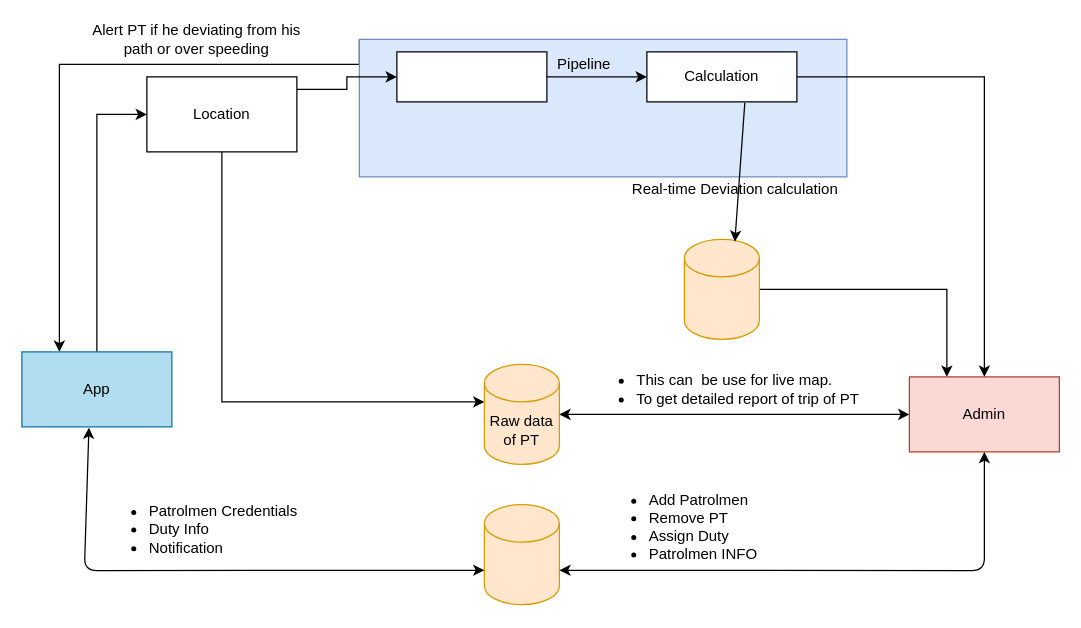
Image size: 1081x628. Some labels were removed from this diagram. Here are the shapes that lost their labels. From the top down, the box of each, then its label:
(396, 51, 547, 102): Message Queue
(683, 238, 759, 339): Analyzed data
(483, 503, 559, 605): User Info DB
